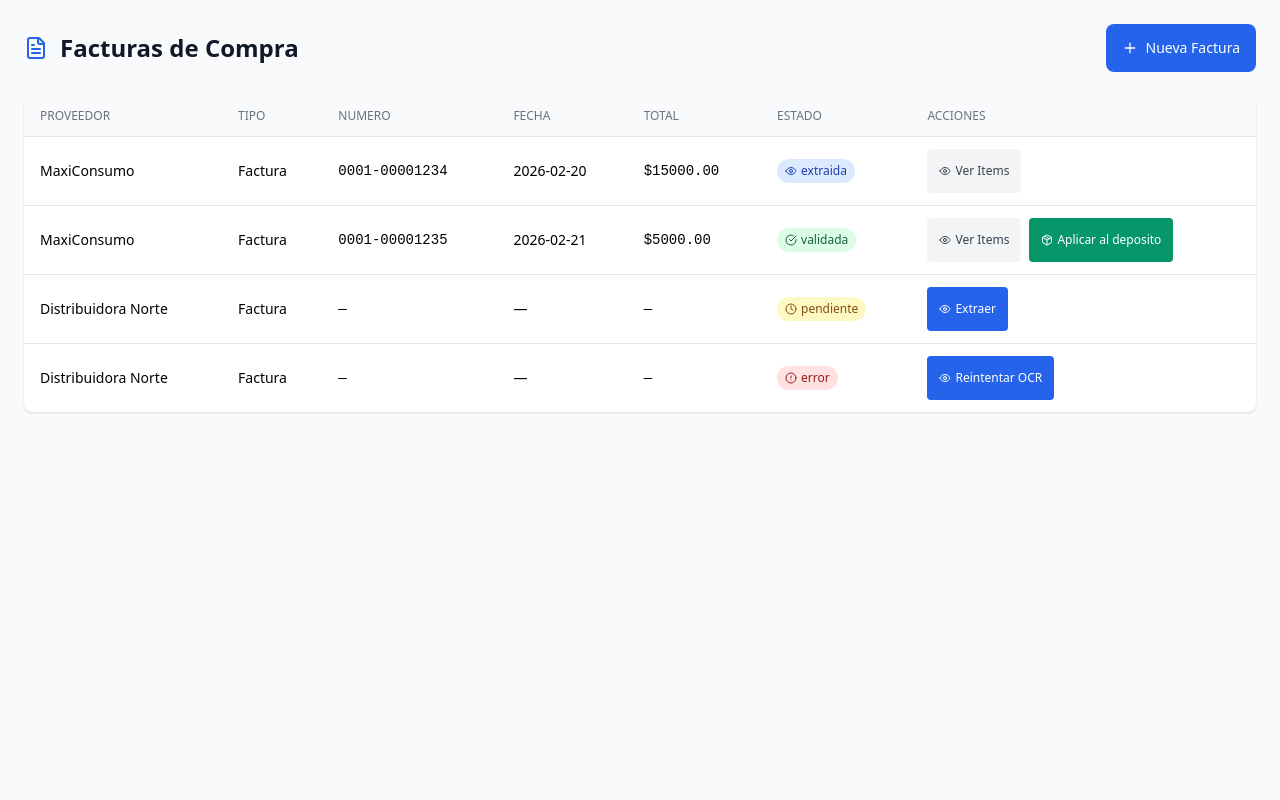
it: Facturas page › shows CUIT mismatch warning in selected factura detail
Click the button "Ver Items" in the row of "0001-00001234" at (974,171), box [927, 149, 1021, 193]
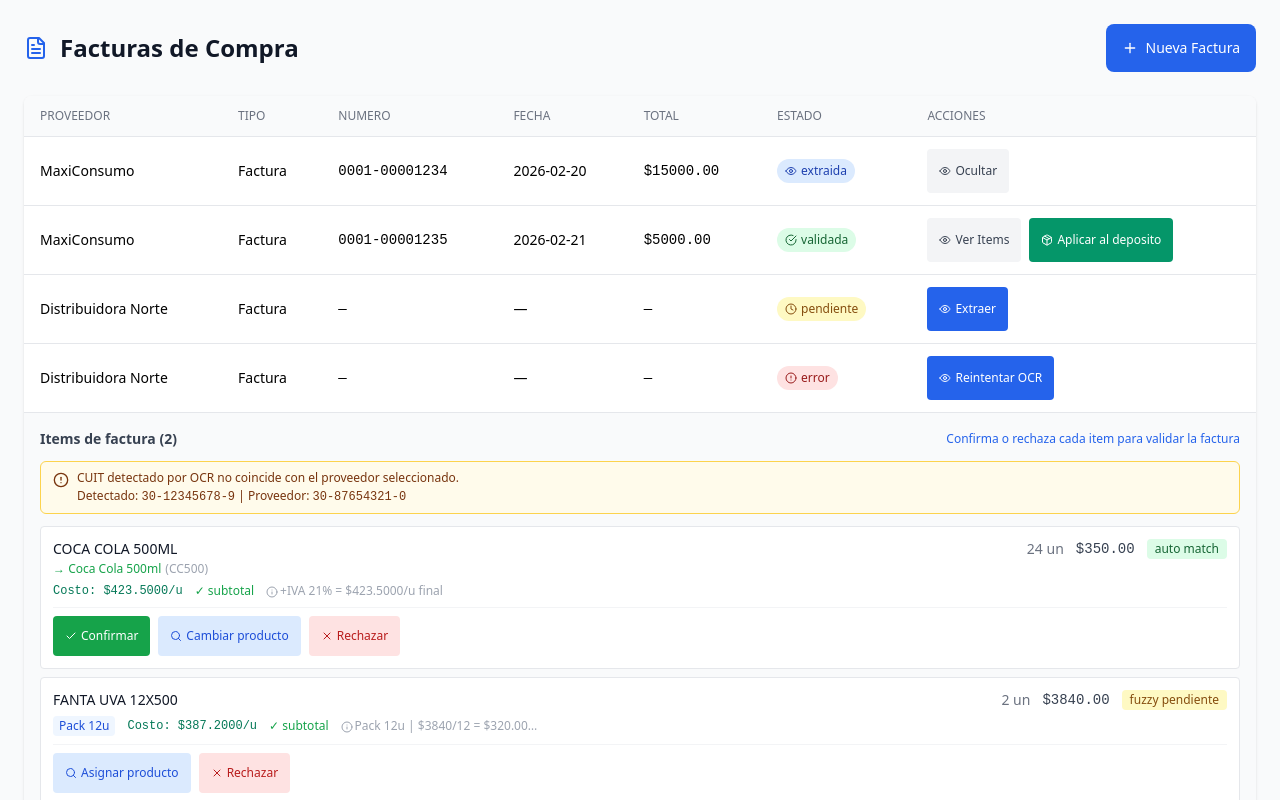
Expected: the text "CUIT detectado por OCR no coincide" is shown, [77, 469, 459, 486]
Expected: the text "Detectado: 30-12345678-9 | Proveedor: 30-87654321-0" is shown, [77, 488, 459, 505]
